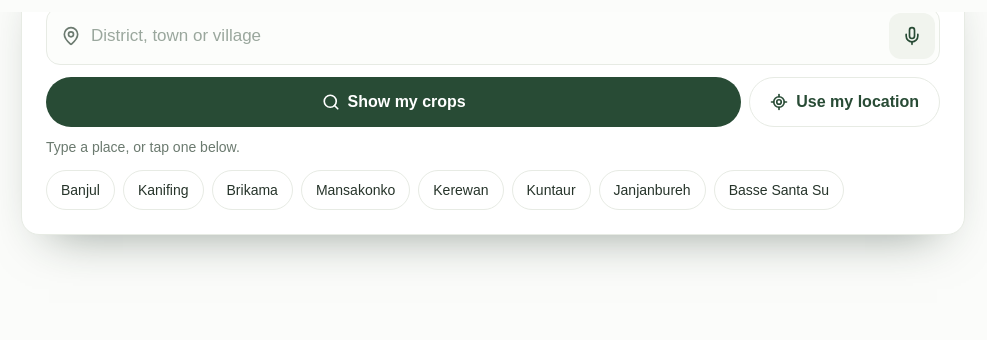
it: LocationForm › explains when a browser blocks access to location
Click the button "Use my location": (845, 102) [749,77,940,127]
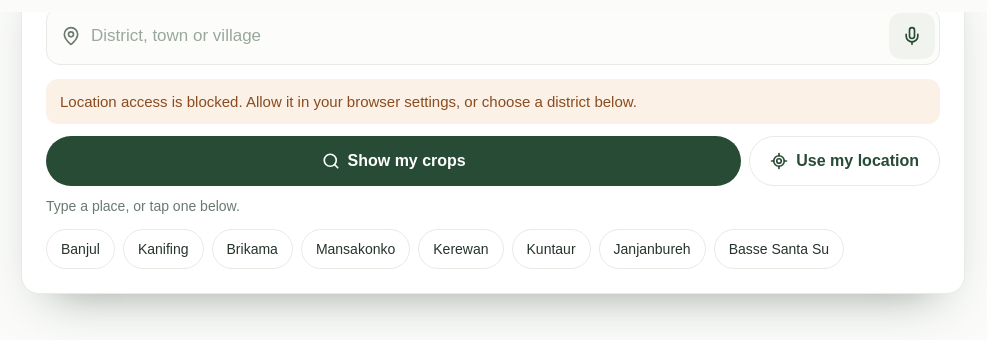
Now the message shows "Location access is blocked. Allow it in your browser settings, or choose a district below.", box [60,93,637,110]
